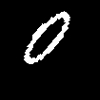chain: (24, 12, 69, 63)
